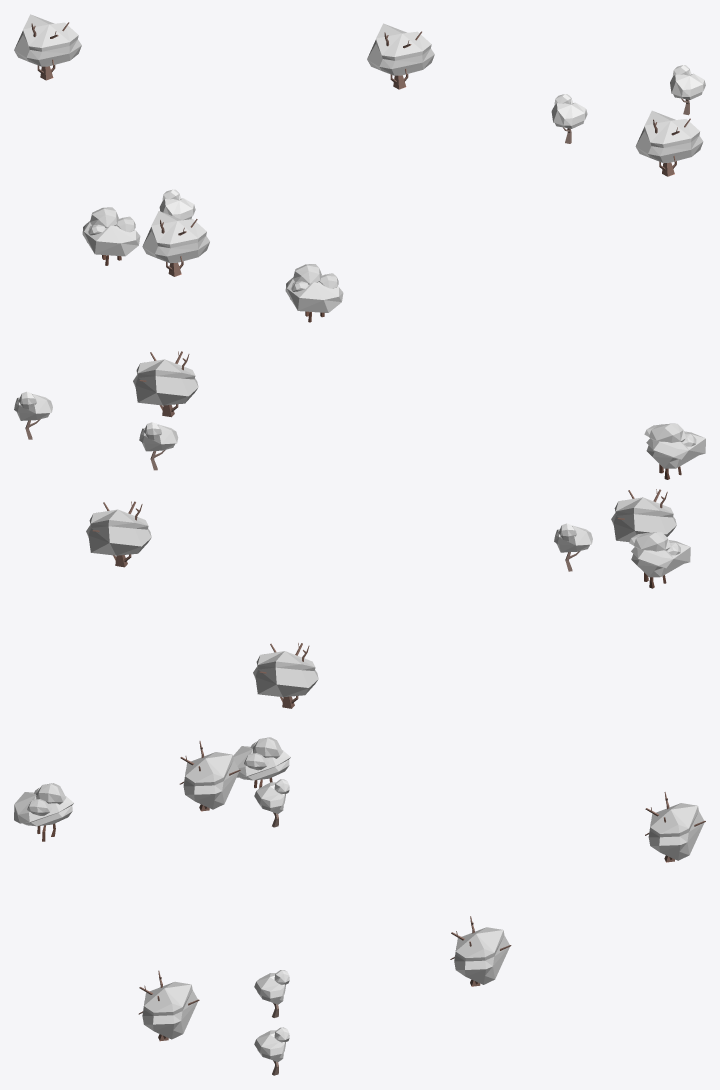
The model's file is Trees.fbx.
3 views of the same model, one above another, from view 1: azimuth 30°, elevation 25°; view 2: azimuth 150°, elevation 25°; view 3: azimuth 270°, elevation 25° (orthographic). The views are drawn at different scales.
Visible parts, largest first — view 1: Bush_winter_024; view 2: Bush_winter_024; view 3: Bush_winter_024.
Boxes of the visible parts, bbox=[...] form: Bush_winter_024: bbox=[14, 14, 705, 322]; Bush_winter_024: bbox=[14, 351, 705, 708]; Bush_winter_024: bbox=[14, 737, 705, 1075].
Bounding box in the file's own units: 25.27 × 2.34 × 24.33.
1 material, 1 textured.
